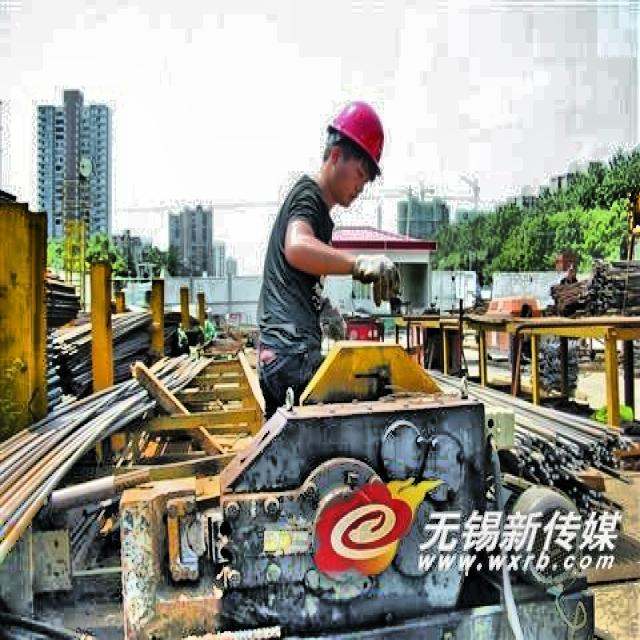helmet: (314, 86, 394, 216)
